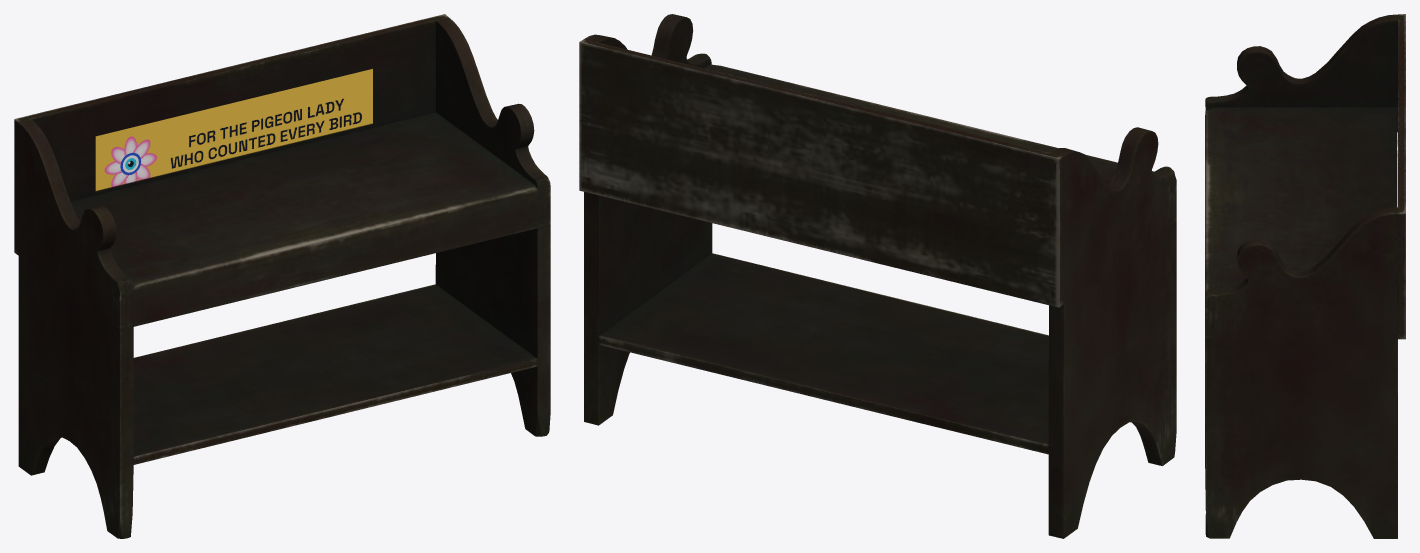
The model's file is nyb_pigeons_bench.glb.
3 renders of one model, left to right at view 1: azimuth 30°, elevation 25°; view 2: azimuth 150°, elevation 25°; view 3: azimuth 270°, elevation 25°, orthographic. The views are drawn at different scales.
Parts seen in each view (by area): view 1: painted_wooden_bench, stk_lbl_a1782ef391.png; view 2: painted_wooden_bench; view 3: painted_wooden_bench.
Boxes of the visible parts, <box> form: painted_wooden_bench: <box>14,14,550,538</box>; stk_lbl_a1782ef391.png: <box>95,69,372,191</box>; painted_wooden_bench: <box>579,14,1176,538</box>; painted_wooden_bench: <box>1205,14,1405,538</box>.
Size of the model in its own units: 1.16 by 0.8893 by 0.4965.
Materials: 2 (2 with a texture image).
